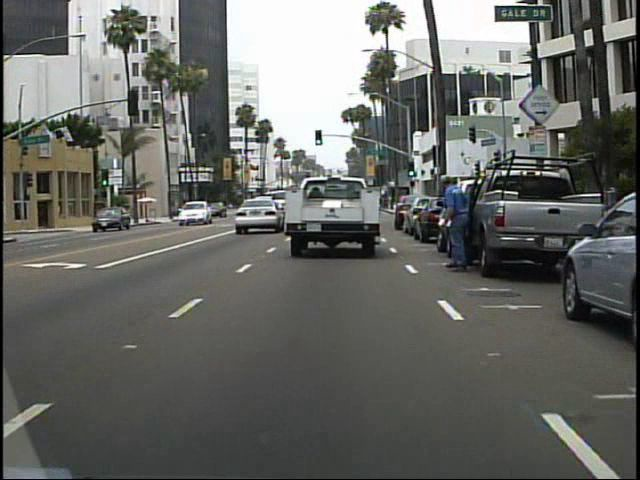person: (429, 173, 482, 279)
